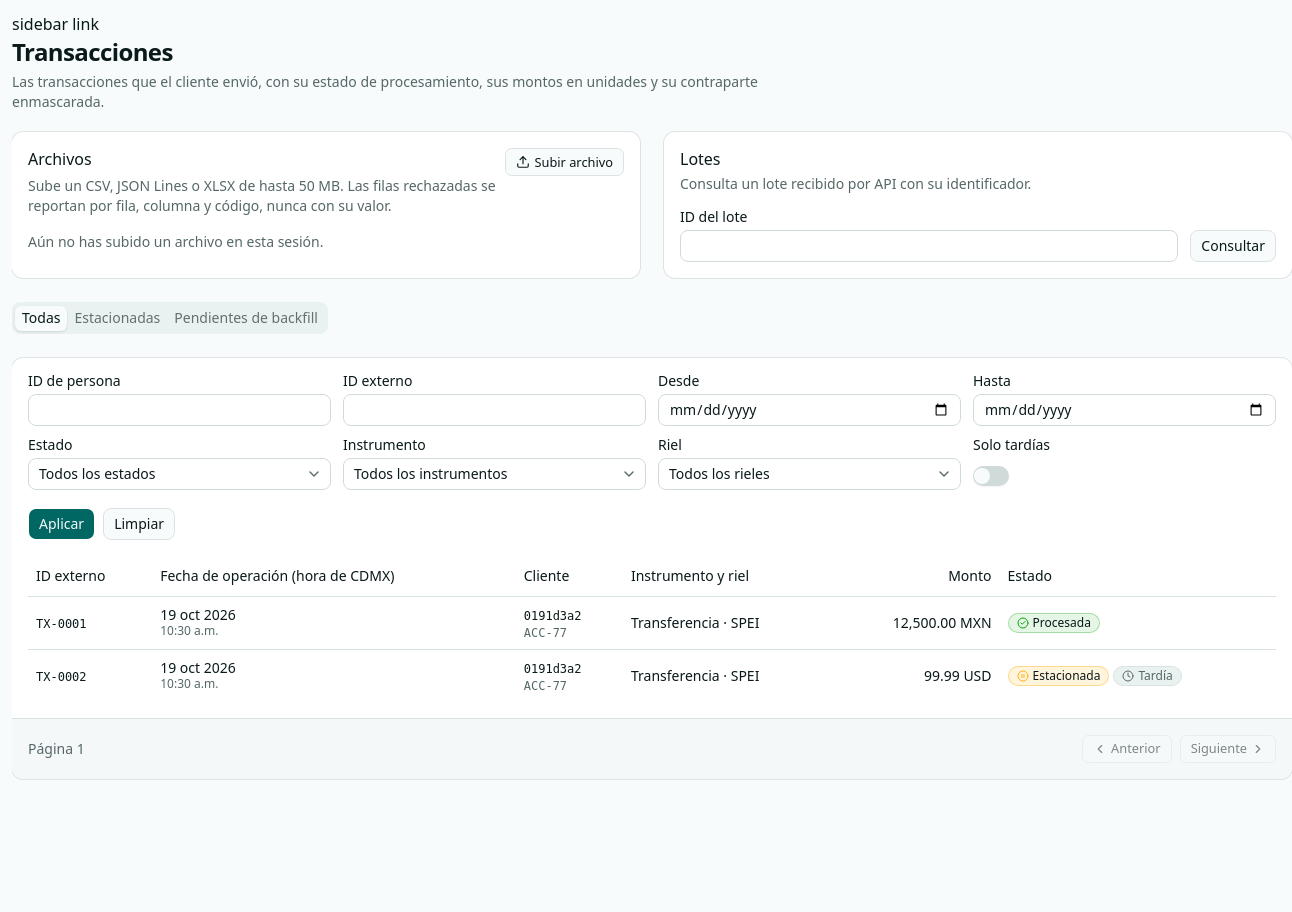
Scenario: TransactionsPage › refuses a reversed date range without asking the API
Type "2026-10-31" into the date field labelled "Desde" at (810, 410), box [658,394,961,426]
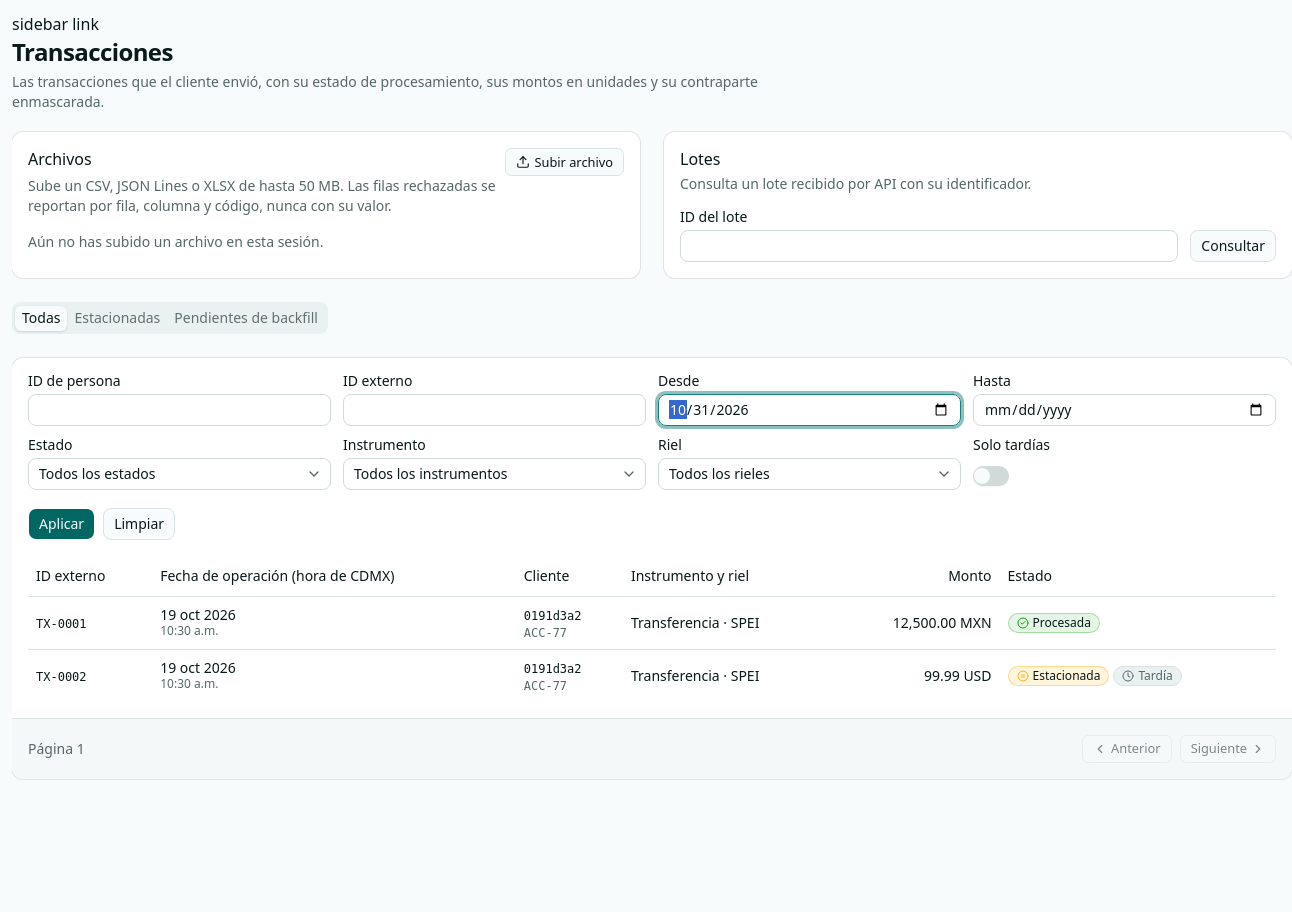
Type "2026-10-01" into the date field labelled "Hasta" at (1124, 410), box [973,394,1276,426]
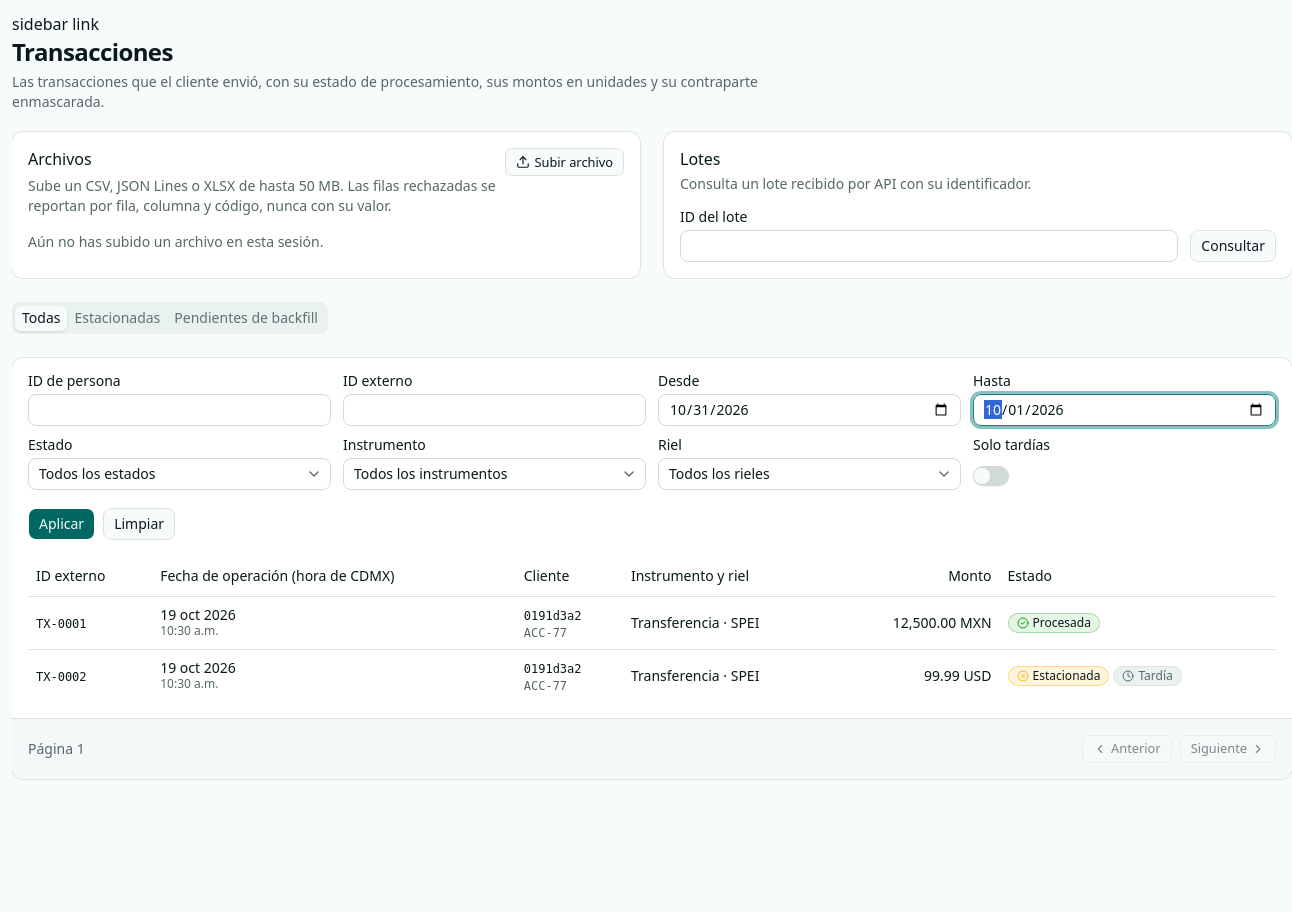
Click the button "Aplicar" at (62, 524), box [28,508,95,540]
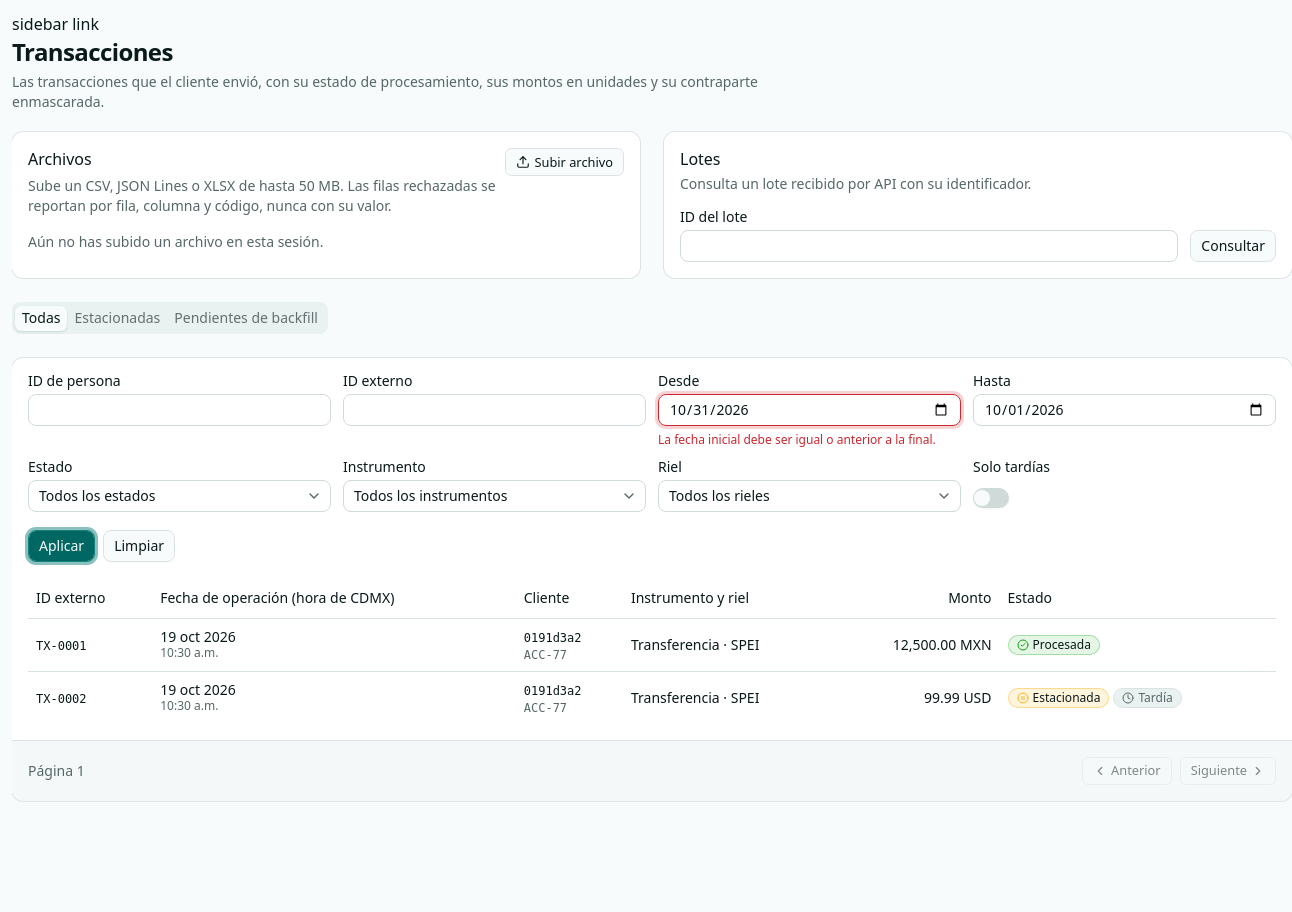
Now the text "La fecha inicial debe ser igual o anterior a la final." is shown, box [658,432,961,448]
